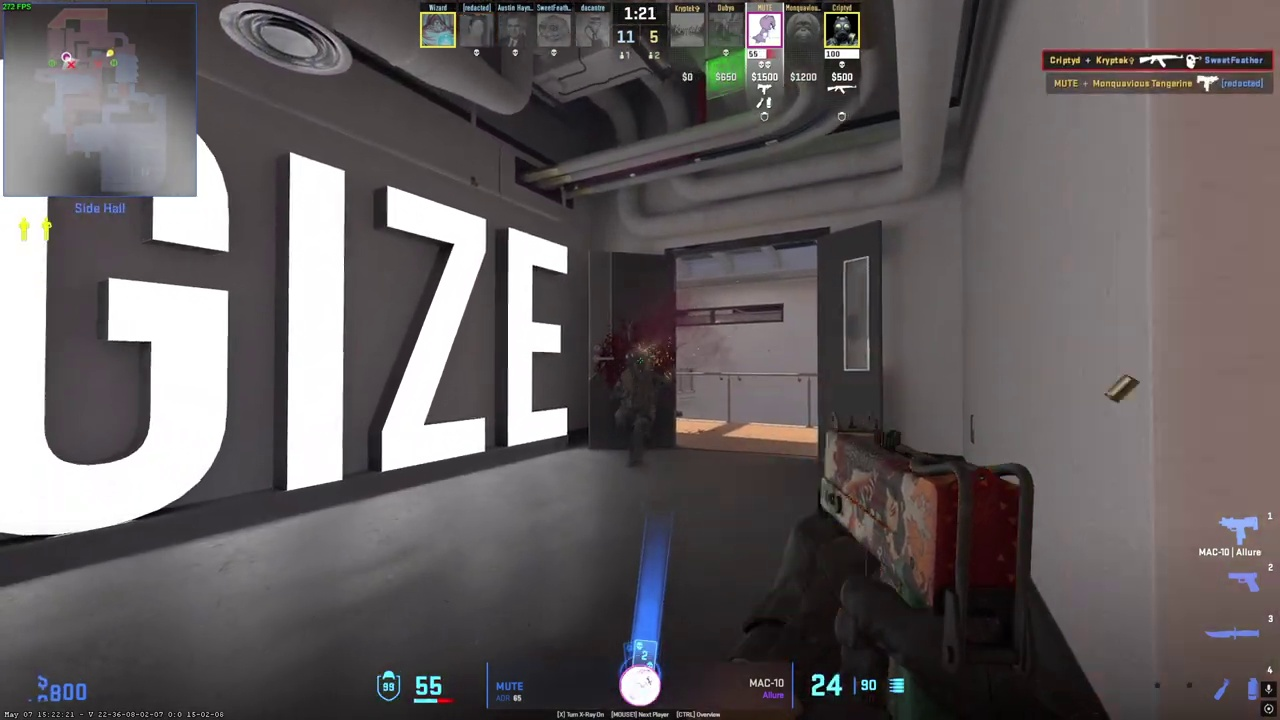CT: (614, 348, 669, 470)
